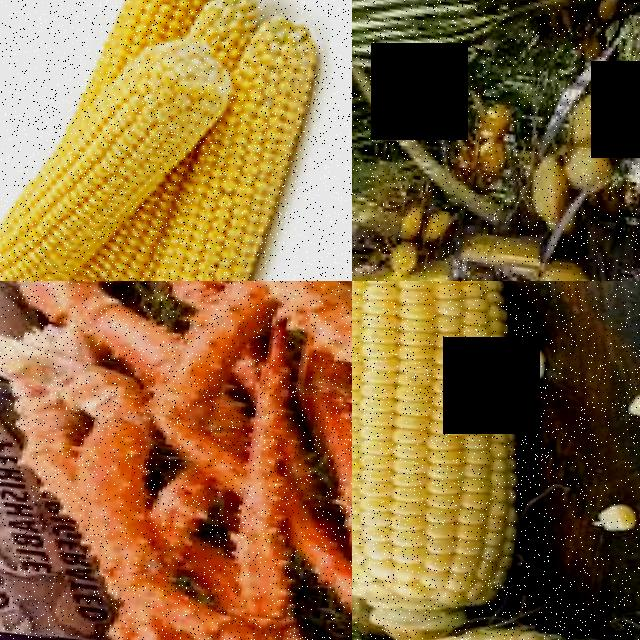coconut: (508, 159, 566, 240), (553, 146, 622, 214), (553, 95, 616, 157), (519, 259, 593, 281)
corn: (352, 281, 582, 640), (45, 28, 236, 232), (179, 15, 330, 224), (86, 183, 277, 281), (352, 562, 567, 640), (0, 158, 106, 281), (22, 205, 168, 281), (91, 0, 227, 69)
crab: (0, 281, 352, 599), (38, 450, 352, 640)
